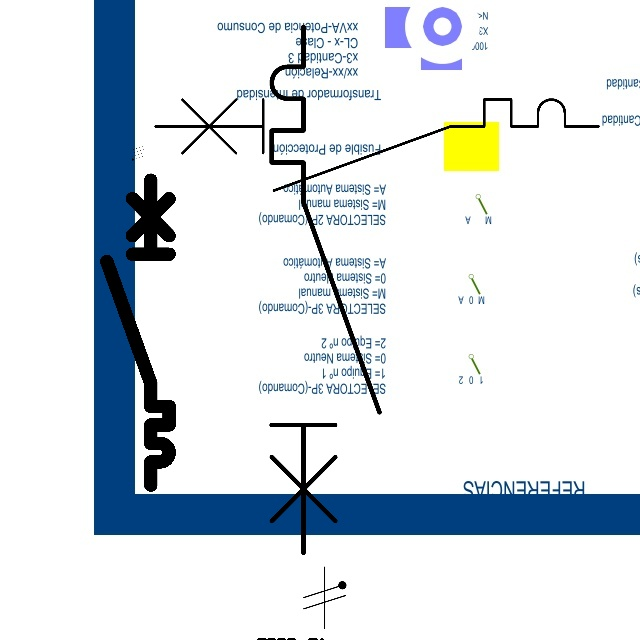interruptor_termomagnetico: (258, 13, 393, 567), (144, 88, 610, 202), (99, 172, 177, 493)
